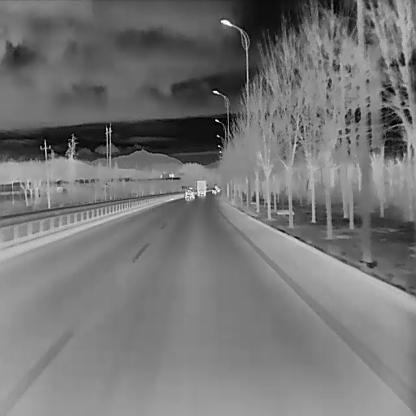car: (184, 186, 195, 199), (211, 187, 216, 193)
truck: (196, 180, 206, 196)
